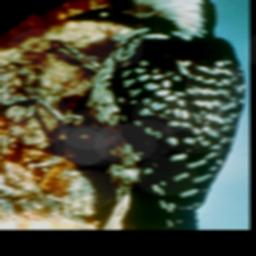Woodpecker: (0, 0, 246, 230)
